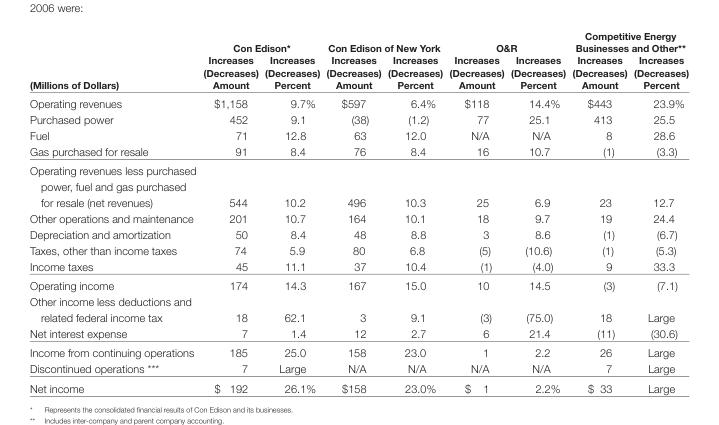table: (28, 29, 688, 394)
table column: (28, 29, 199, 394), (260, 29, 322, 394), (383, 29, 445, 394), (506, 29, 568, 394), (199, 29, 260, 394), (322, 29, 383, 394), (445, 29, 506, 394), (568, 29, 629, 394), (629, 29, 688, 394)
table column header: (28, 29, 688, 93)
table row: (28, 160, 688, 209), (28, 53, 688, 93), (28, 292, 688, 324), (28, 29, 688, 53), (28, 93, 688, 111), (28, 142, 688, 160), (28, 257, 688, 275), (28, 324, 688, 342), (28, 342, 688, 360), (28, 275, 688, 292), (28, 360, 688, 377), (28, 377, 688, 394), (28, 126, 688, 142), (28, 209, 688, 225), (28, 225, 688, 241), (28, 241, 688, 257), (28, 111, 688, 126)
table spanning cell: (28, 29, 199, 93), (199, 29, 322, 53), (322, 29, 445, 53), (445, 29, 568, 53), (568, 29, 688, 53)
